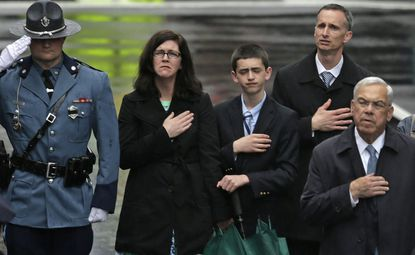Person: (3, 9, 113, 255), (119, 37, 207, 255), (326, 82, 415, 255), (222, 58, 289, 255), (303, 9, 342, 107)
